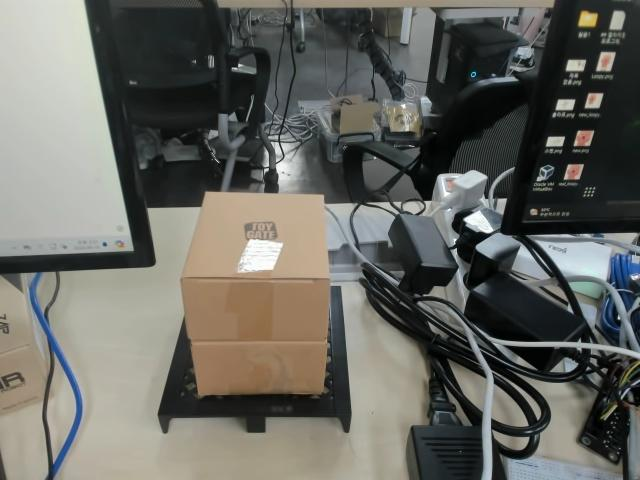box: (156, 192, 353, 434)
